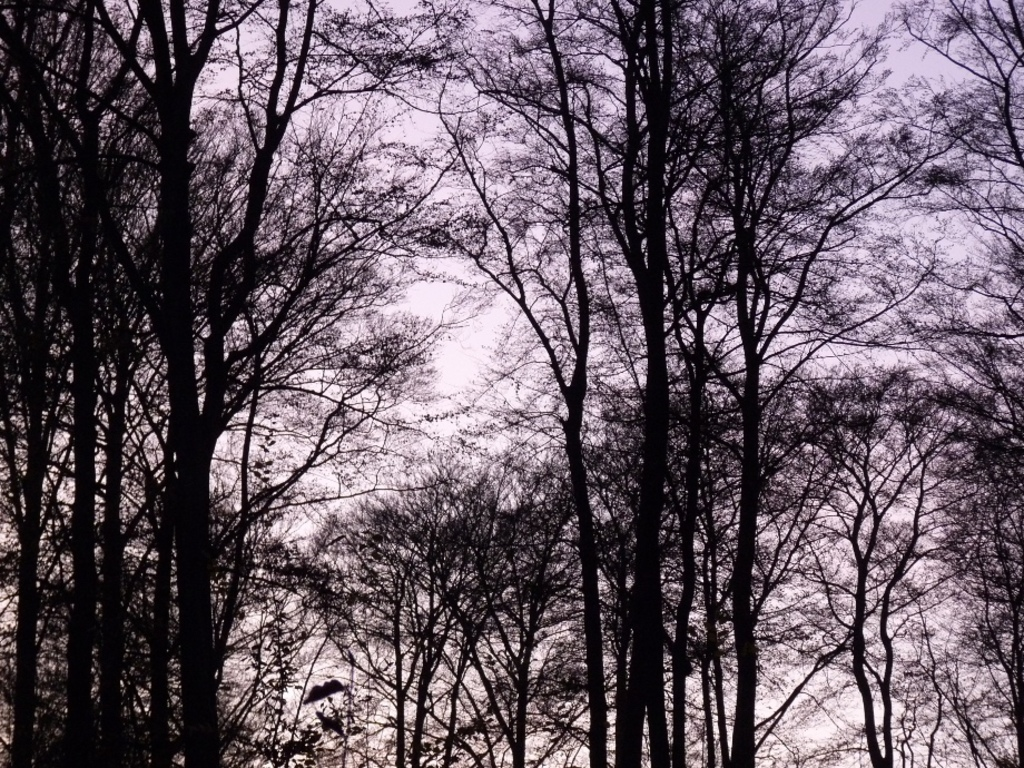Tree: (237, 0, 889, 766), (0, 0, 270, 766), (81, 106, 384, 766), (595, 357, 962, 766), (0, 0, 176, 762), (360, 430, 599, 766), (0, 0, 84, 766), (283, 459, 489, 766), (907, 395, 1022, 730), (381, 487, 497, 766)
